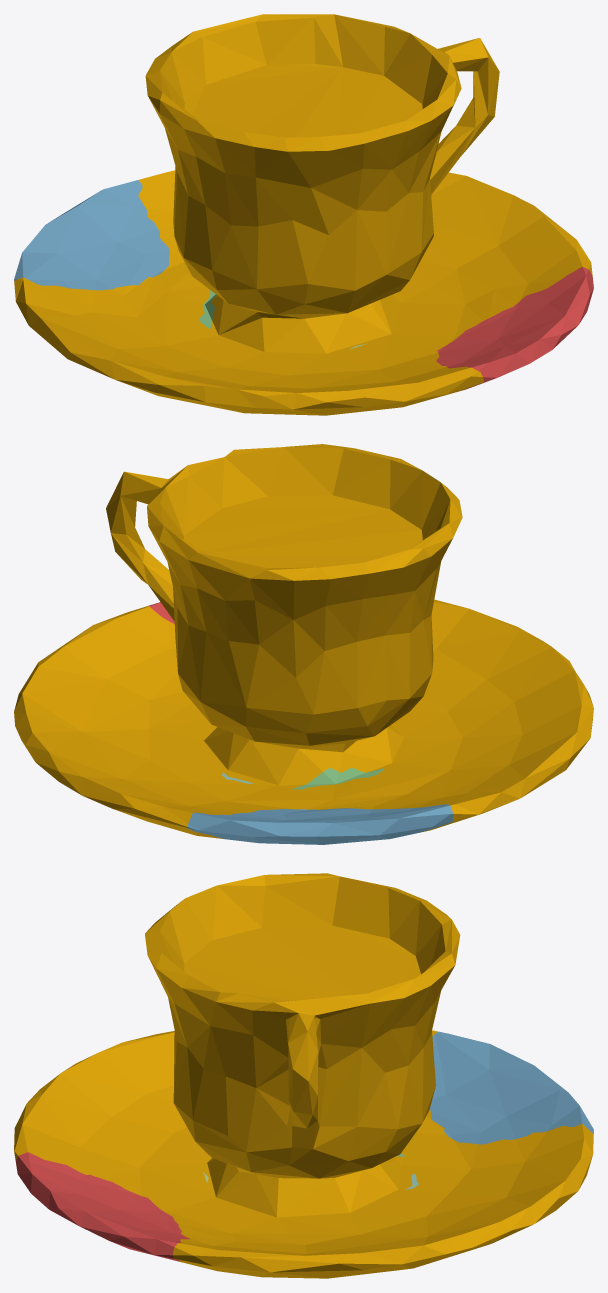
The model's file is fractured_0_6pcs.glb.
3 views of the same model, one above another, from view 1: azimuth 30°, elevation 25°; view 2: azimuth 150°, elevation 25°; view 3: azimuth 270°, elevation 25° (orthographic).
Parts seen in each view (by area): view 1: piece_0.obj, piece_2.obj, piece_1.obj; view 2: piece_0.obj, piece_2.obj, piece_3.obj; view 3: piece_0.obj, piece_2.obj, piece_1.obj.
Boxes of the visible parts, x1,y1,x2,y2 form: piece_0.obj: (14, 14, 592, 415); piece_2.obj: (14, 180, 169, 290); piece_1.obj: (436, 267, 593, 390); piece_0.obj: (14, 444, 593, 839); piece_2.obj: (187, 804, 453, 844); piece_3.obj: (291, 767, 383, 789); piece_0.obj: (14, 873, 593, 1278); piece_2.obj: (430, 1031, 593, 1144); piece_1.obj: (16, 1152, 189, 1261).
Size of the model in its own units: 1 by 0.5219 by 0.9975.
